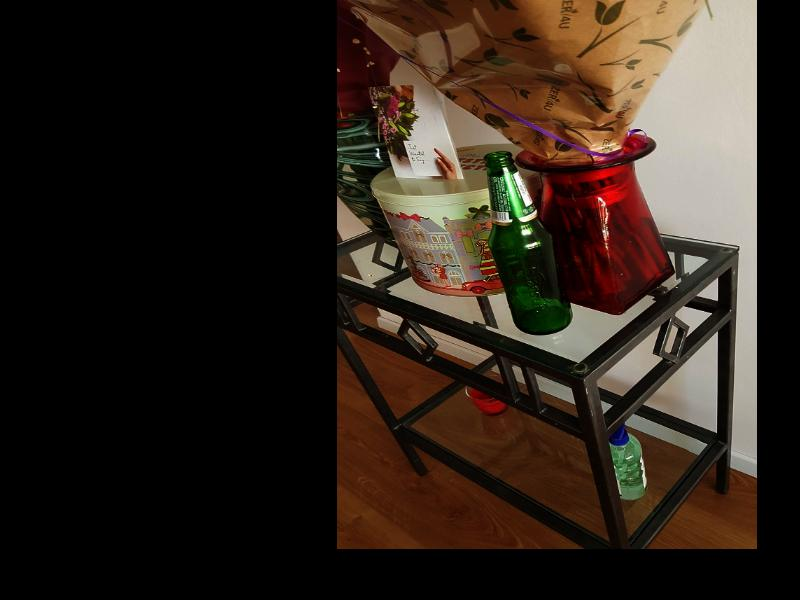Beer: (485, 150, 571, 336)
